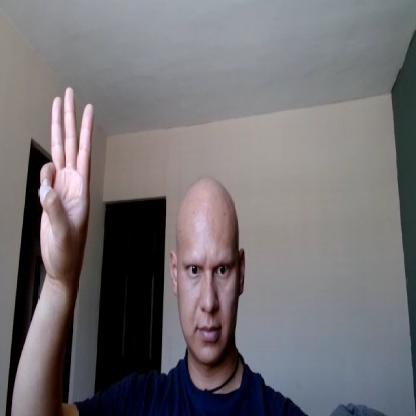W: (38, 83, 96, 272)
